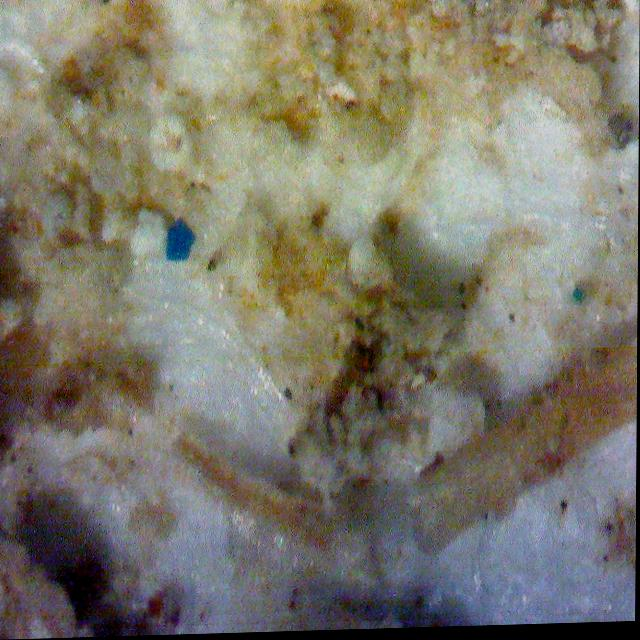microplastic: (167, 218, 196, 262)
